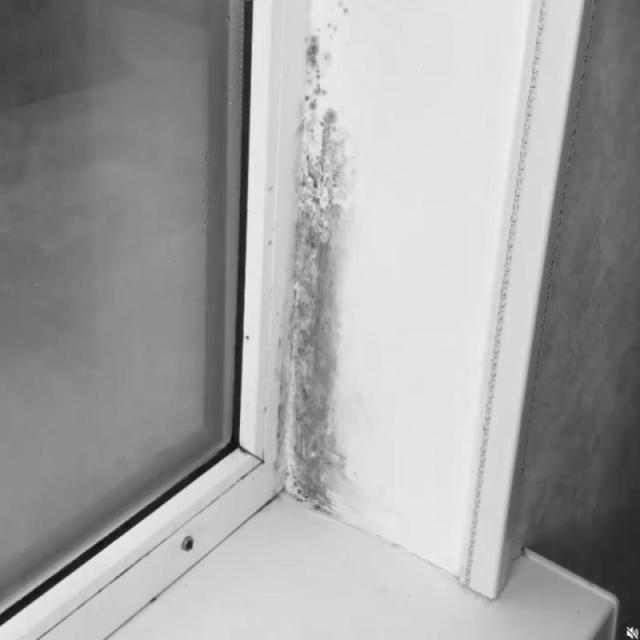stain marks: (277, 1, 351, 505)
